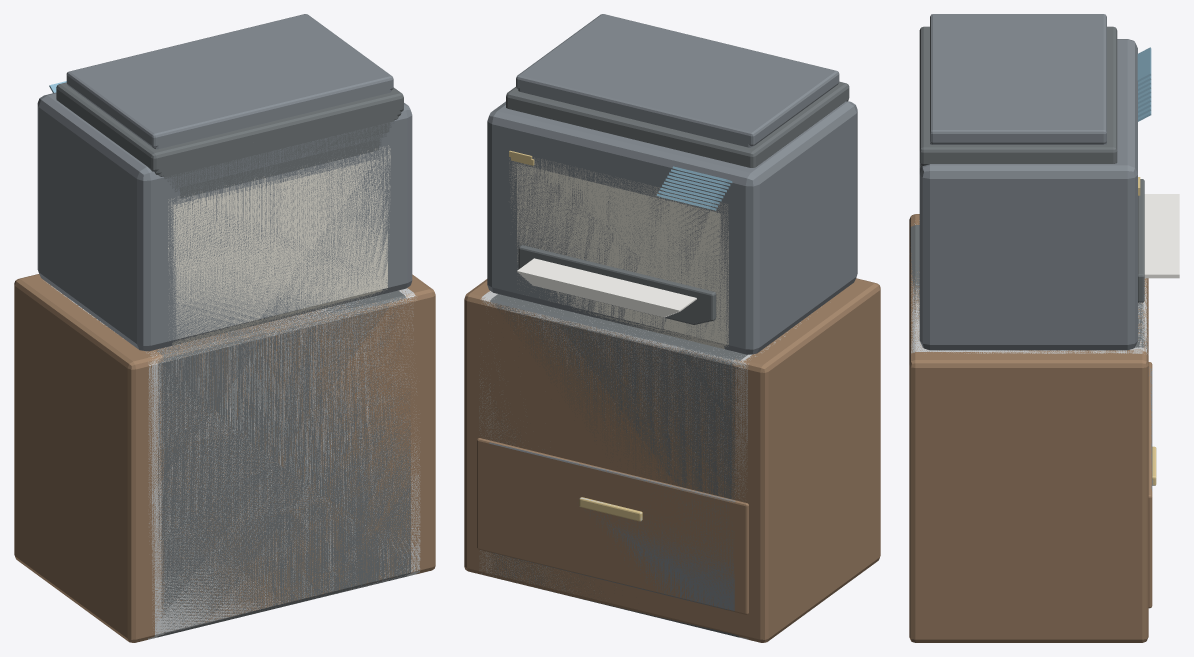
The model's file is Gear11.fbx.
3 views of the same model, side by side, from view 1: azimuth 30°, elevation 25°; view 2: azimuth 150°, elevation 25°; view 3: azimuth 270°, elevation 25° (orthographic).
Visible parts, largest first — view 1: Gear11_V10_Graphite, Gear11_V10_Walnut, Gear11_V2_Charcoal, Gear11_V3_Charcoal, Gear11_V1_Ivory, Gear11_V1_Charcoal, Gear11_V8_Walnut, Gear11_V2_Ivory, Gear11_V5_BrushedSteel, Gear11_V9_Walnut, Gear11_V8_Graphite, Gear11_V10_Charcoal (+14 smaller); view 2: Gear11_V10_Walnut, Gear11_V10_Graphite, Gear11_V8_Walnut, Gear11_V1_Charcoal, Gear11_V1_Ivory, Gear11_V2_Charcoal, Gear11_V10_Charcoal, Gear11_V3_Ivory, Gear11_V6_Graphite, Gear11_V9_Walnut, Gear11_V9_Graphite, Gear11_V4_Ivory (+12 smaller); view 3: Gear11_V10_Walnut, Gear11_V10_Graphite, Gear11_V10_Charcoal, Gear11_V10_Paper, Gear11_V2_Charcoal, Gear11_V7_Walnut, Gear11_V9_Walnut, Gear11_V5_BrushedSteel, Gear11_V8_Walnut, Gear11_V4_BrushedSteel, Gear11_V6_BrushedSteel, Gear11_V10_ScreenUI.
Boxes of the visible parts, left/top/right/bottom form: Gear11_V10_Graphite: left=37, top=14, right=412, bottom=351; Gear11_V10_Walnut: left=14, top=274, right=435, bottom=642; Gear11_V2_Charcoal: left=160, top=135, right=407, bottom=631; Gear11_V3_Charcoal: left=157, top=150, right=410, bottom=637; Gear11_V1_Ivory: left=175, top=158, right=382, bottom=344; Gear11_V1_Charcoal: left=156, top=139, right=404, bottom=634; Gear11_V8_Walnut: left=26, top=274, right=426, bottom=634; Gear11_V2_Ivory: left=172, top=154, right=385, bottom=345; Gear11_V5_BrushedSteel: left=46, top=282, right=417, bottom=627; Gear11_V9_Walnut: left=23, top=277, right=429, bottom=641; Gear11_V8_Graphite: left=156, top=90, right=401, bottom=349; Gear11_V10_Charcoal: left=56, top=82, right=403, bottom=171; Gear11_V10_Walnut: left=464, top=278, right=880, bottom=642; Gear11_V10_Graphite: left=487, top=14, right=857, bottom=354; Gear11_V8_Walnut: left=473, top=286, right=814, bottom=637; Gear11_V1_Charcoal: left=495, top=287, right=739, bottom=635; Gear11_V1_Ivory: left=517, top=164, right=721, bottom=347; Gear11_V2_Charcoal: left=492, top=294, right=743, bottom=636; Gear11_V10_Charcoal: left=506, top=81, right=849, bottom=320; Gear11_V3_Ivory: left=511, top=161, right=726, bottom=346; Gear11_V6_Graphite: left=489, top=142, right=735, bottom=611; Gear11_V9_Walnut: left=470, top=284, right=847, bottom=641; Gear11_V9_Graphite: left=494, top=84, right=753, bottom=352; Gear11_V4_Ivory: left=509, top=157, right=728, bottom=346; Gear11_V10_Walnut: left=909, top=214, right=1152, bottom=642; Gear11_V10_Graphite: left=919, top=14, right=1137, bottom=350; Gear11_V10_Charcoal: left=919, top=26, right=1144, bottom=302; Gear11_V10_Paper: left=1144, top=194, right=1179, bottom=276; Gear11_V2_Charcoal: left=910, top=226, right=1148, bottom=350; Gear11_V7_Walnut: left=909, top=219, right=1067, bottom=357; Gear11_V9_Walnut: left=909, top=216, right=1151, bottom=494; Gear11_V5_BrushedSteel: left=910, top=279, right=1060, bottom=353; Gear11_V8_Walnut: left=909, top=217, right=1152, bottom=492; Gear11_V4_BrushedSteel: left=915, top=224, right=1153, bottom=485; Gear11_V6_BrushedSteel: left=919, top=220, right=1146, bottom=354; Gear11_V10_ScreenUI: left=1137, top=47, right=1151, bottom=81.
Bounding box in the file's own units: 68.6 × 106 × 52.
